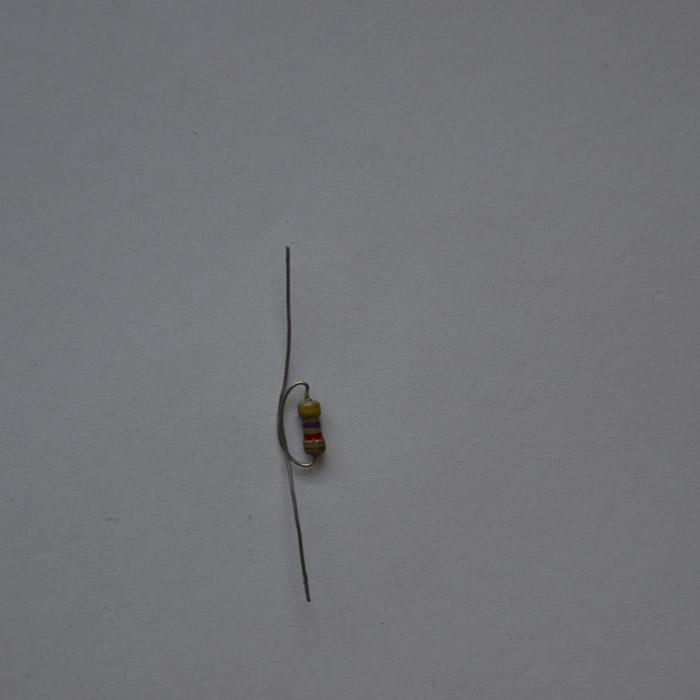resistor: (297, 395, 327, 455)
